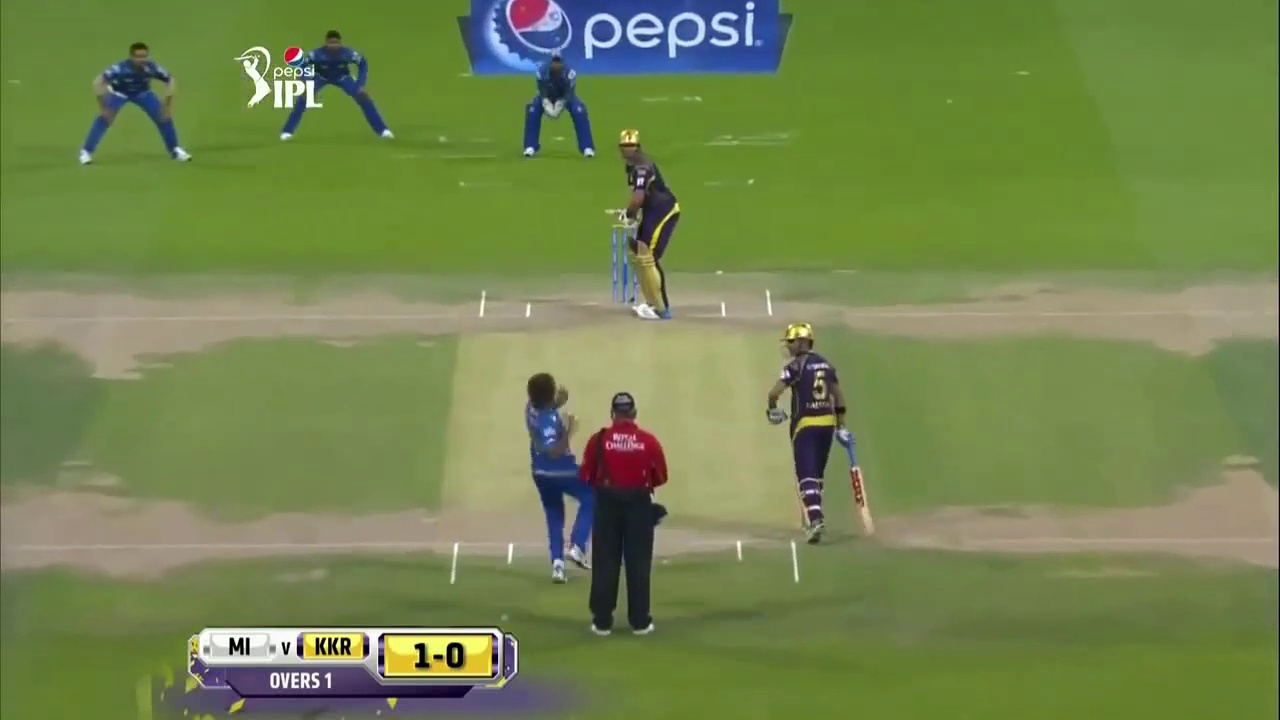bat: (847, 446, 881, 540), (604, 207, 621, 217)
